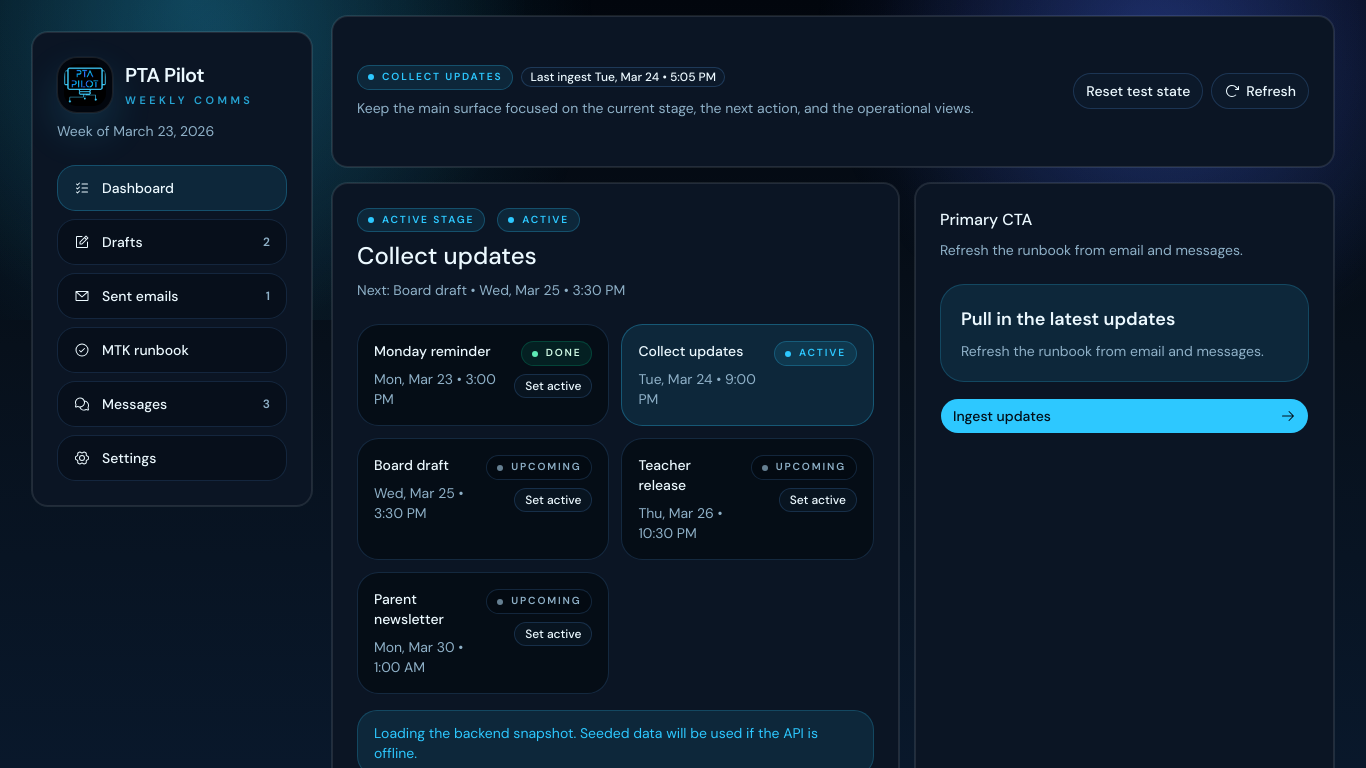
Test case: DashboardShell › shows the stored execution error for a failed draft send
Step 1. Click the button "Drafts 2" → click(172, 242), box [57,219,287,265]
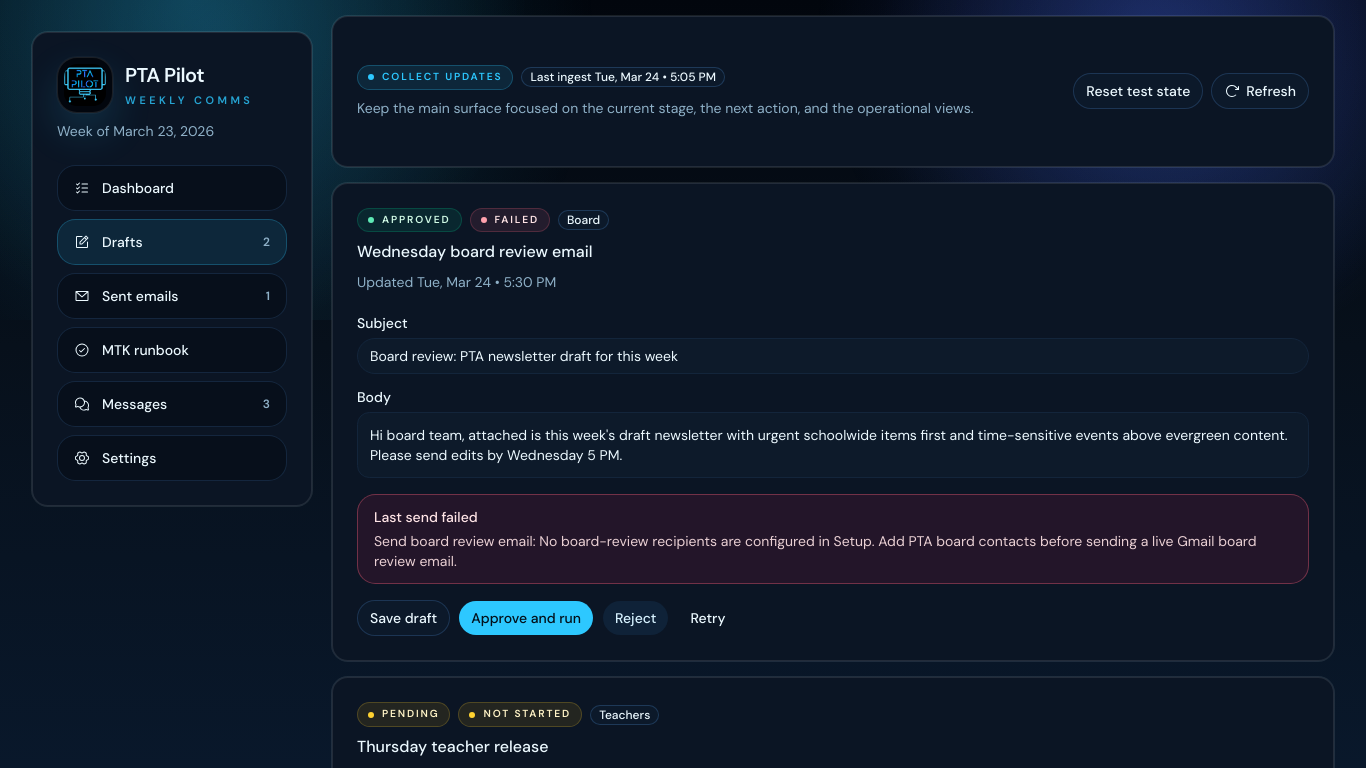
Now the text "Last send failed" is shown, box [374,508,478,526]
Now the text "No board-review recipients are configured in Setup. Add PTA board contacts before sending a live Gmail board review ema" is shown, box [374,532,1256,570]
